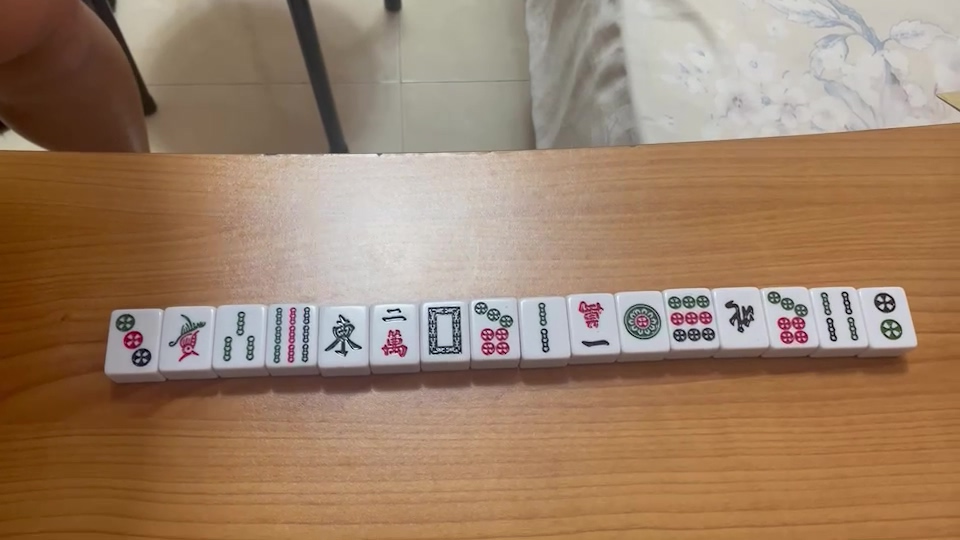b-1: (164, 313, 207, 366)
b-2: (528, 299, 566, 358)
b-3: (220, 309, 259, 364)
b-4: (817, 289, 860, 344)
b-9: (269, 306, 314, 363)
c-1: (571, 297, 615, 352)
c-2: (376, 307, 409, 356)
d-1: (622, 302, 663, 342)
d-2: (872, 290, 909, 343)
d-3: (113, 313, 153, 370)
d-7: (470, 301, 515, 361), (765, 289, 810, 345)
d-9: (666, 294, 715, 347)
honors-east: (321, 310, 364, 362)
honors-north: (717, 296, 758, 338)
honors-white: (425, 305, 465, 356)
